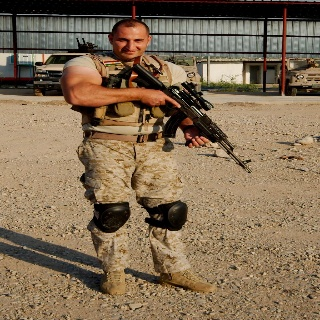rifle: (130, 63, 252, 175)
